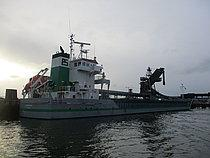Ship: (15, 56, 197, 121)
